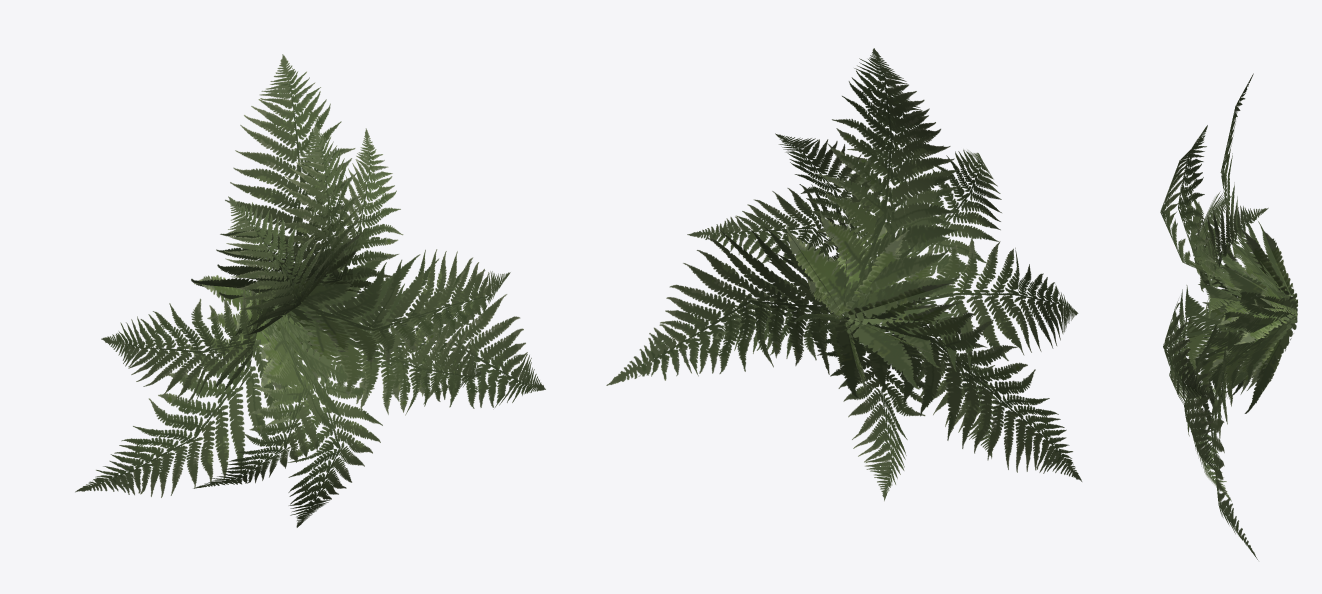
File: scene-nomorph.glb
The picture shows the model from 3 angles, left to right: view 1: azimuth 30°, elevation 25°; view 2: azimuth 150°, elevation 25°; view 3: azimuth 270°, elevation 25°; orthographic projection. The views are drawn at different scales.
Visible parts, largest first — view 1: Object_2; view 2: Object_2; view 3: Object_2.
Boxes of the visible parts, x1,y1,x2,y2 form: Object_2: (75,54,545,527); Object_2: (606,48,1082,500); Object_2: (1160,73,1297,560).
Bounding box in the file's own units: 2.6 × 2.3 × 0.662.
1 material, 1 textured.
